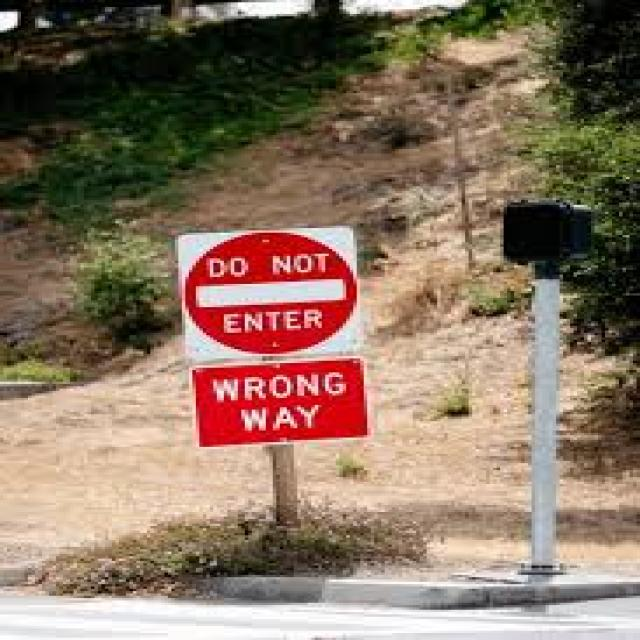doNotEnter: (179, 221, 363, 355)
